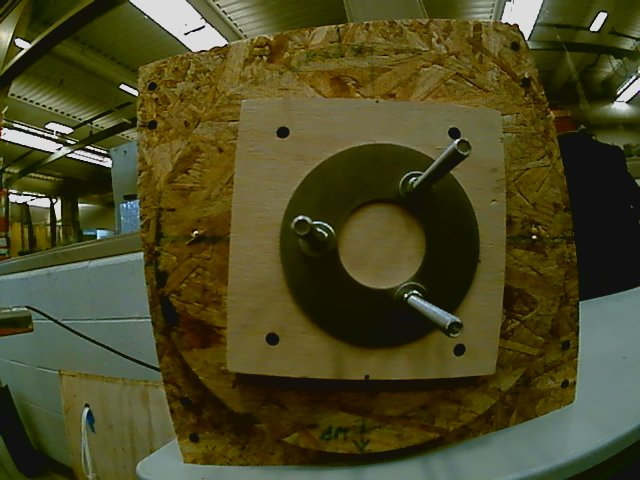bolt: (292, 213, 313, 239), (444, 316, 465, 340), (451, 138, 474, 159)
